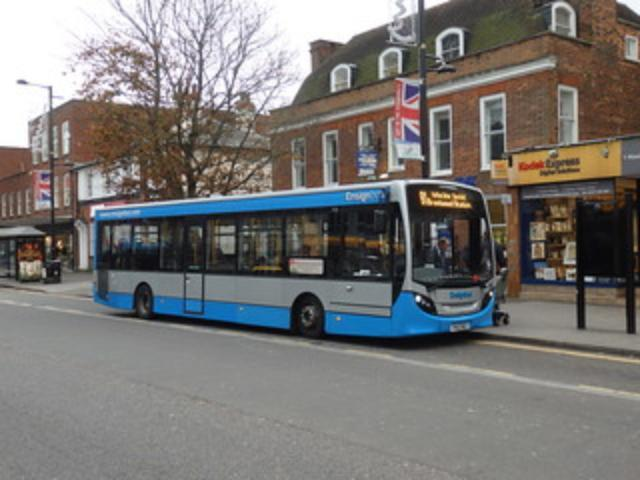bus: (86, 178, 496, 338)
